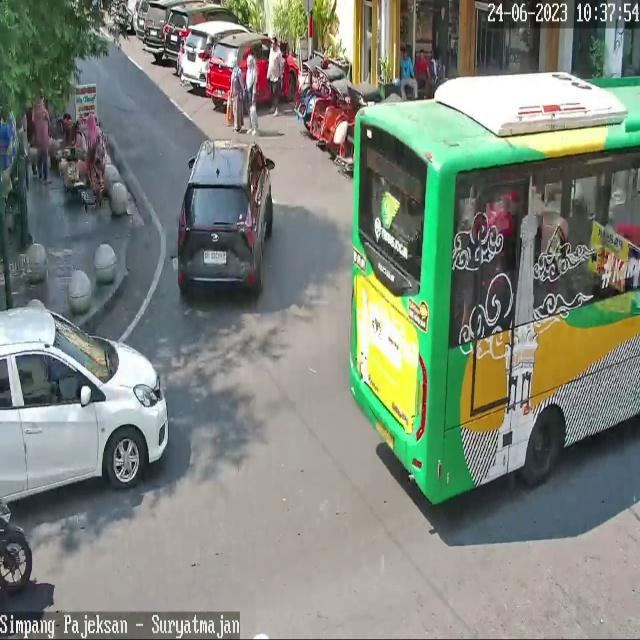car: (348, 72, 640, 506)
motorcycle: (0, 308, 169, 504), (178, 139, 274, 294), (206, 34, 299, 114), (179, 21, 252, 88), (163, 3, 242, 63), (143, 0, 170, 54)
